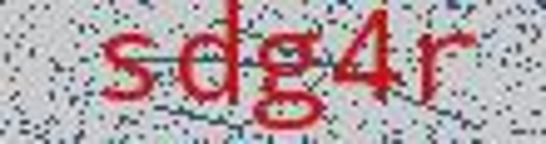4: (328, 7, 403, 104)
d: (175, 1, 246, 109)
g: (253, 27, 325, 134)
r: (415, 23, 482, 116)
s: (97, 25, 159, 109)
